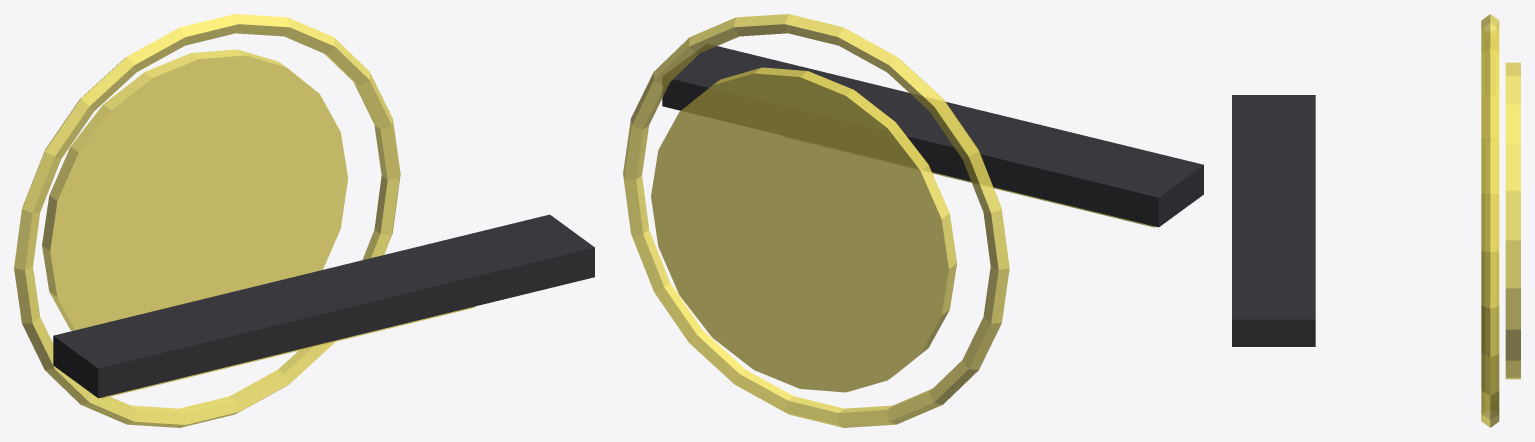
Rendered from special_meter_worldspace.glb.
The picture shows the model from 3 angles, left to right: view 1: azimuth 30°, elevation 25°; view 2: azimuth 150°, elevation 25°; view 3: azimuth 270°, elevation 25°; orthographic projection. The views are drawn at different scales.
Parts seen in each view (by area): view 1: marker_disc, ui_frame, marker_ring, ui_fill; view 2: marker_disc, ui_frame, marker_ring; view 3: ui_frame, marker_ring, marker_disc.
Part boxes in pixels (<box>): marker_disc: <box>42,49,347,330</box>; ui_frame: <box>53,214,594,398</box>; marker_ring: <box>14,14,400,427</box>; ui_fill: <box>101,306,474,398</box>; marker_disc: <box>651,67,956,392</box>; ui_frame: <box>662,46,1203,227</box>; marker_ring: <box>623,14,1009,427</box>; ui_frame: <box>1232,95,1315,346</box>; marker_ring: <box>1481,14,1499,427</box>; marker_disc: <box>1505,62,1520,379</box>.
Bounding box in the file's own units: 1.4 × 1.08 × 0.76.
